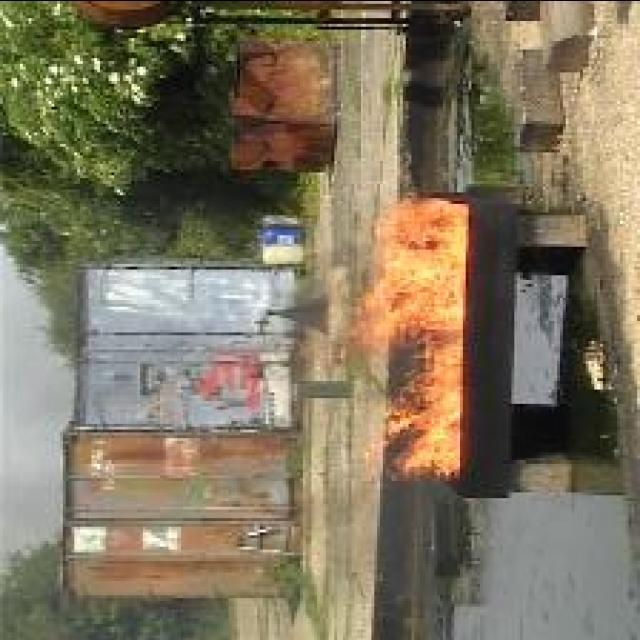Fire: (344, 194, 470, 477)
